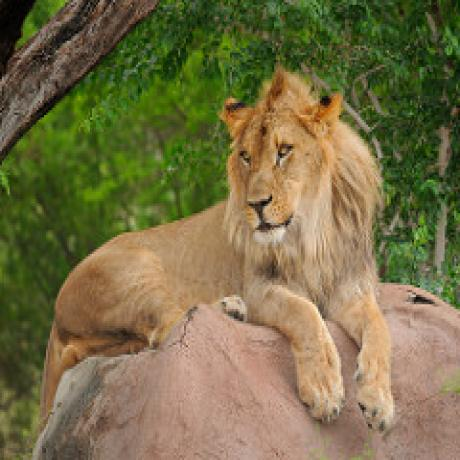Lion: (49, 59, 394, 428)
